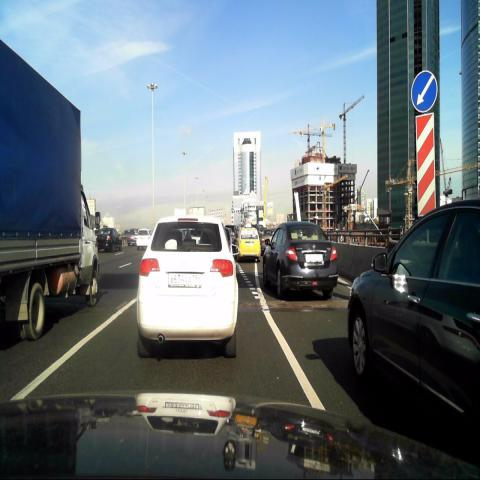4_2_2: (410, 70, 439, 116)
